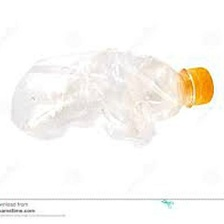bottle: (6, 42, 221, 148)
